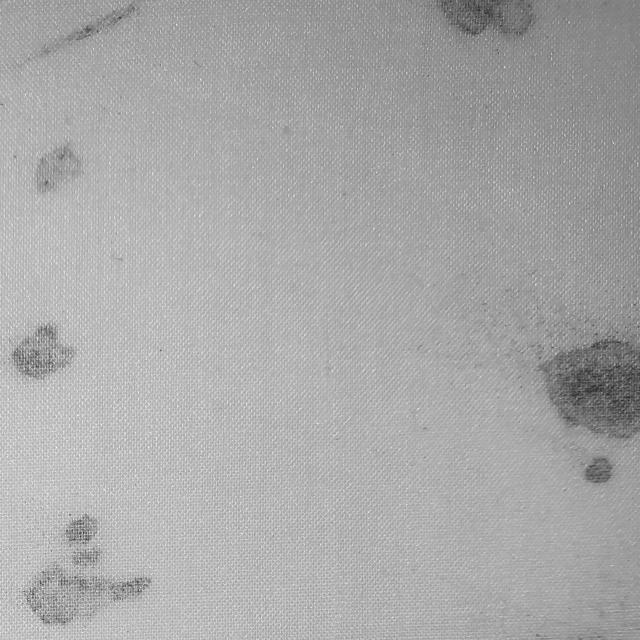Stain: (18, 512, 153, 630), (532, 330, 640, 440), (0, 0, 142, 74), (5, 317, 84, 387), (431, 0, 542, 42), (28, 137, 83, 203), (576, 455, 619, 485)
